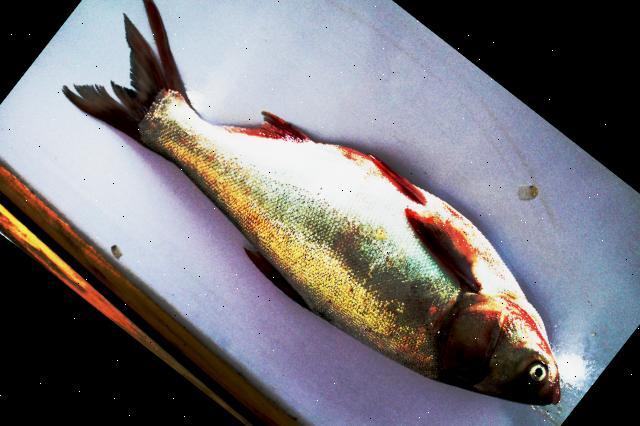Healthy Fish: (63, 0, 561, 404)
